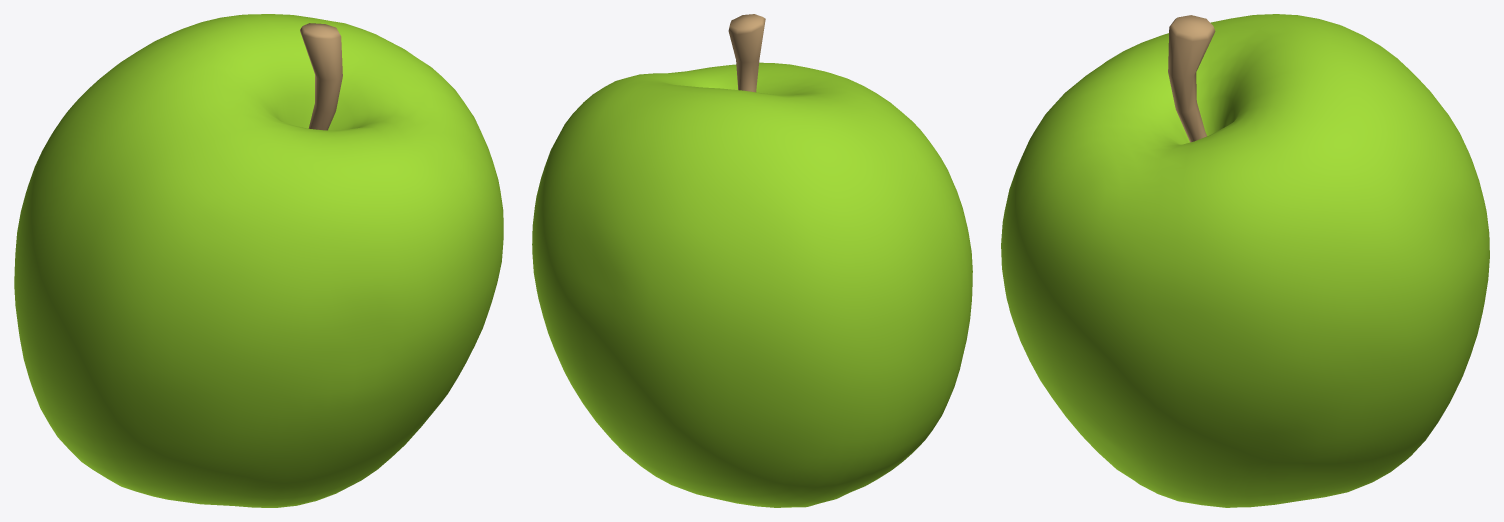
The model's file is apple-corner.glb.
3 renders of one model, left to right at view 1: azimuth 30°, elevation 25°; view 2: azimuth 150°, elevation 25°; view 3: azimuth 270°, elevation 25°, orthographic. The views are drawn at different scales.
Parts seen in each view (by area): view 1: APPLE_green_Bitten.002; view 2: APPLE_green_Bitten.002; view 3: APPLE_green_Bitten.002.
Boxes of the visible parts, x1,y1,x2,y2 form: APPLE_green_Bitten.002: (14, 14, 503, 507); APPLE_green_Bitten.002: (532, 14, 972, 507); APPLE_green_Bitten.002: (1001, 14, 1489, 507).
Bounding box in the file's own units: 0.0834 × 0.0855 × 0.0814.
